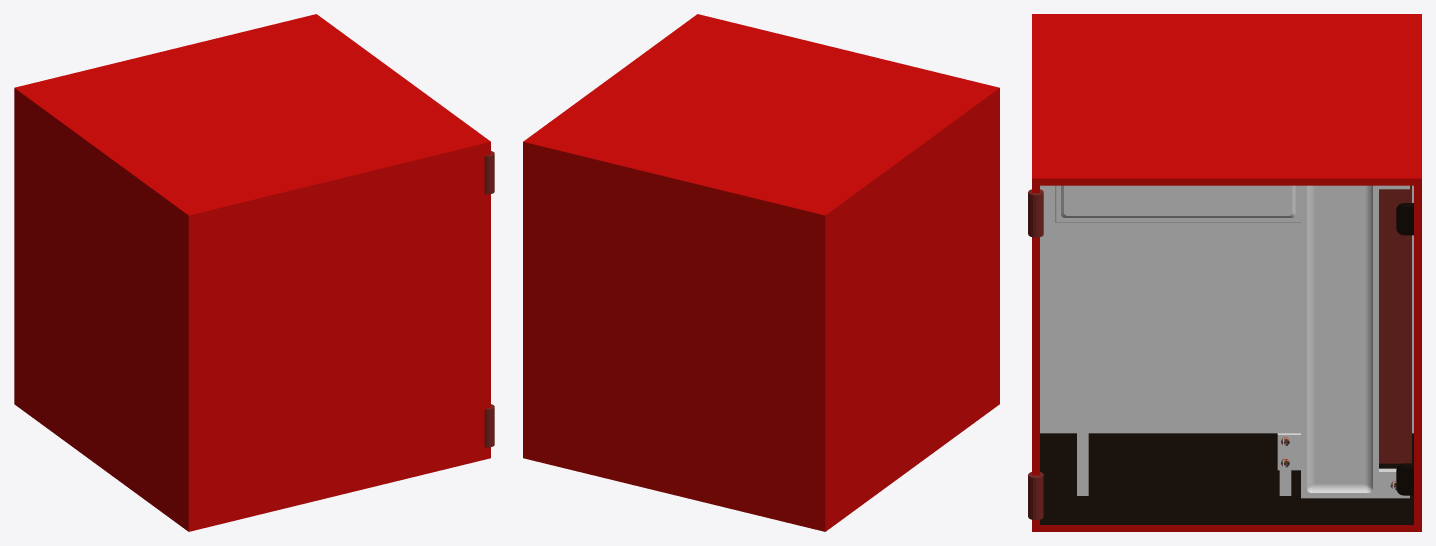
Rendered from CircuitBreakerHeavy_BuildState0.fbx.
3 renders of one model, left to right at view 1: azimuth 30°, elevation 25°; view 2: azimuth 150°, elevation 25°; view 3: azimuth 270°, elevation 25°, orthographic. The views are drawn at different scales.
Parts seen in each view (by area): view 1: HeavyBreaker_BuildState0; view 2: HeavyBreaker_BuildState0; view 3: HeavyBreaker_BuildState0.
Part boxes in pixels (<box>): HeavyBreaker_BuildState0: <box>14,14,494,531</box>; HeavyBreaker_BuildState0: <box>523,14,999,531</box>; HeavyBreaker_BuildState0: <box>1028,14,1421,531</box>.
Size of the model in its own units: 50.5 by 50 by 50.75.
